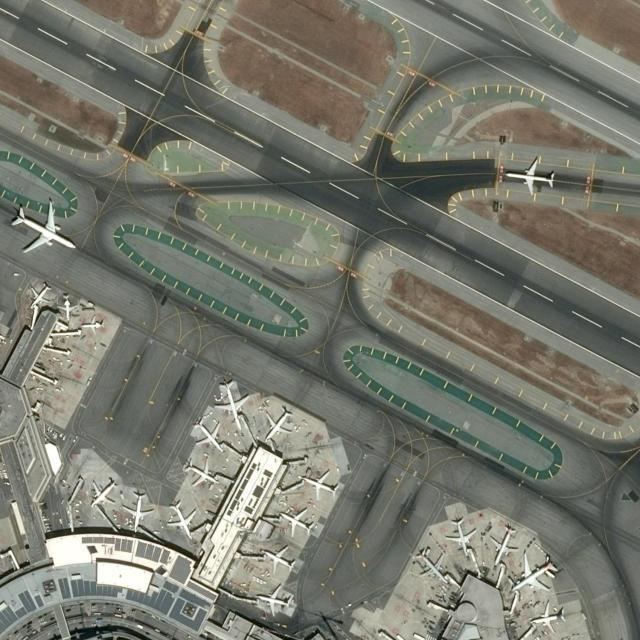Aircraft: (9, 199, 77, 255), (503, 154, 555, 198), (511, 550, 559, 590), (215, 381, 249, 431), (411, 547, 447, 585), (165, 499, 197, 541), (444, 512, 475, 554), (193, 418, 224, 458), (275, 506, 314, 536), (123, 491, 153, 529), (529, 602, 569, 630), (300, 468, 338, 497), (261, 404, 293, 438), (87, 474, 117, 510), (261, 545, 299, 573), (256, 584, 290, 615), (185, 457, 217, 487), (29, 283, 52, 308), (58, 293, 78, 318), (81, 316, 103, 334)
